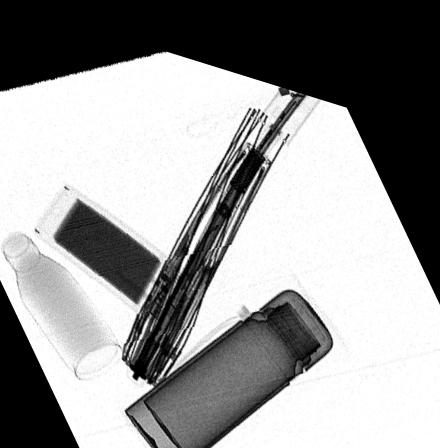Powerbank: (30, 176, 174, 304)
